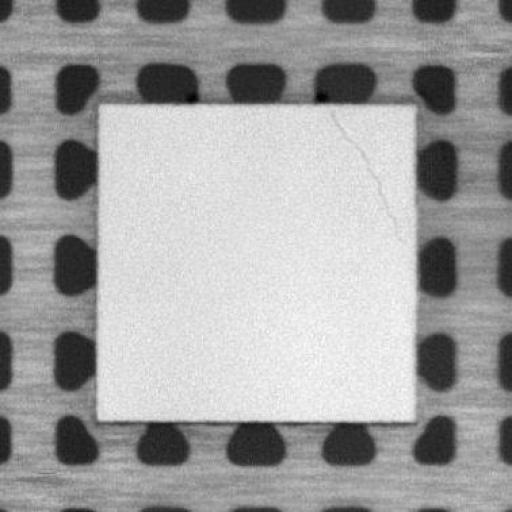DIE_CRACK: (329, 114, 401, 243)
